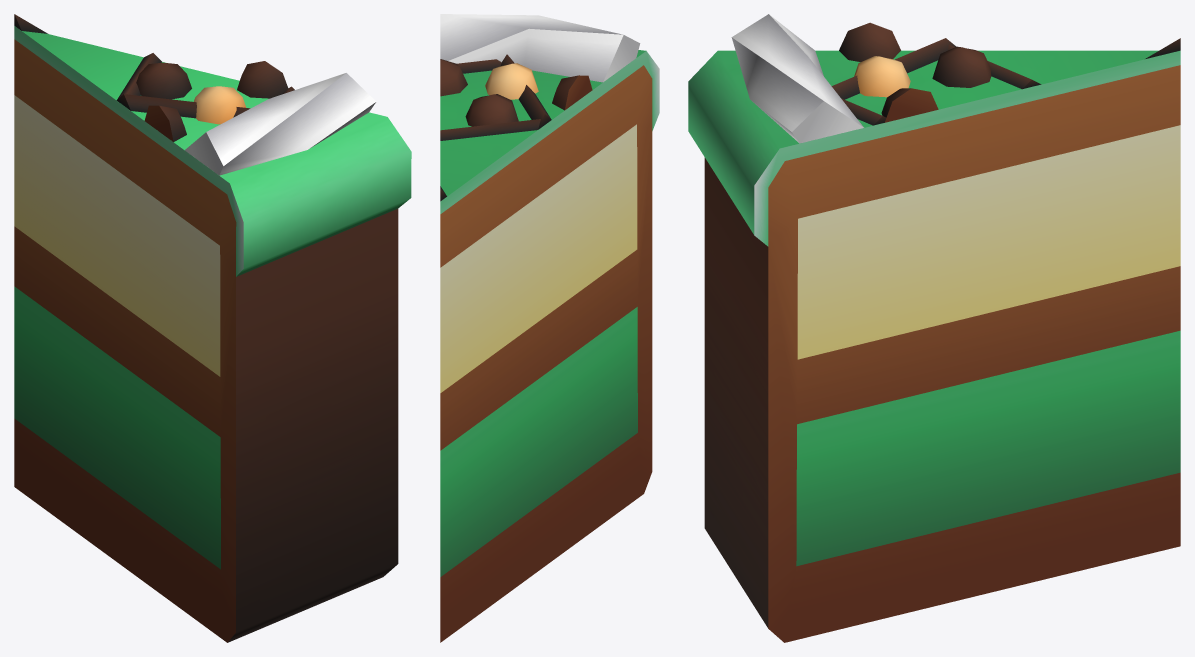
Rendered from m_MintCake01_Slice01.fbx.
3 views of the same model, side by side, from view 1: azimuth 30°, elevation 25°; view 2: azimuth 150°, elevation 25°; view 3: azimuth 270°, elevation 25° (orthographic). The views are drawn at different scales.
Parts seen in each view (by area): view 1: m_MintCake01_Slice01; view 2: m_MintCake01_Slice01; view 3: m_MintCake01_Slice01.
Boxes of the visible parts, x1,y1,x2,y2 form: m_MintCake01_Slice01: (14,14,411,642); m_MintCake01_Slice01: (440,14,659,642); m_MintCake01_Slice01: (688,14,1180,642).
Bounding box in the file's own units: 6.52 × 15.54 × 13.04.
